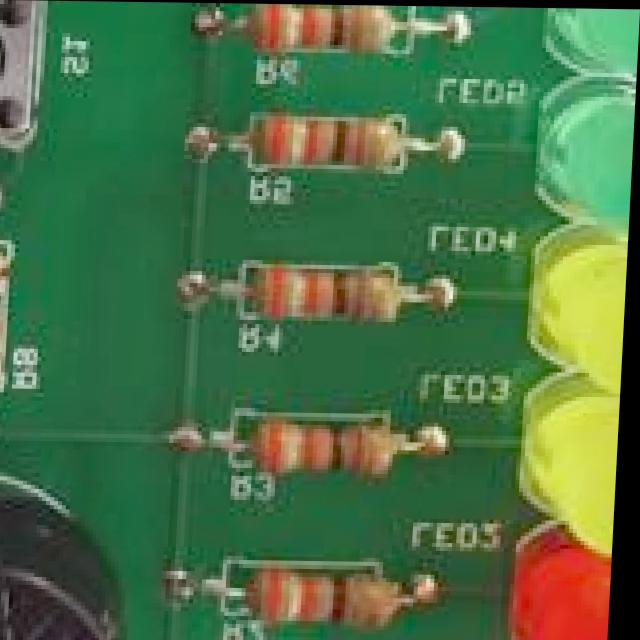LED: (537, 214, 632, 383), (539, 70, 637, 219), (534, 394, 624, 543), (518, 6, 640, 67), (526, 574, 617, 640)
buzzer: (0, 500, 144, 640)
resistor: (240, 93, 458, 205), (238, 545, 424, 640), (246, 255, 422, 349), (245, 3, 436, 81), (232, 405, 414, 485), (0, 196, 20, 416)
switch: (0, 0, 64, 145)
